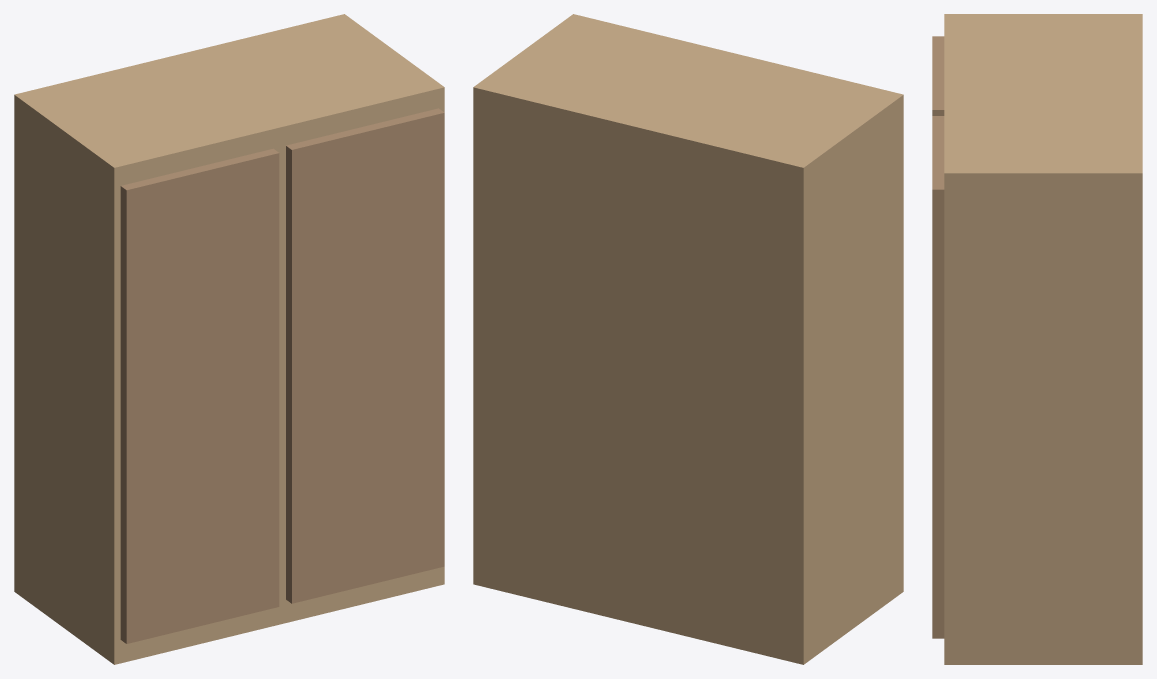
The model's file is cabinet_04.glb.
3 renders of one model, left to right at view 1: azimuth 30°, elevation 25°; view 2: azimuth 150°, elevation 25°; view 3: azimuth 270°, elevation 25°, orthographic.
Parts seen in each view (by area): view 1: body, doorL, doorR; view 2: body; view 3: body, doorR, doorL.
Part boxes in pixels (x1=…): body: x1=14, y1=14, x2=444, y2=664; doorL: x1=120, y1=148, x2=279, y2=643; doorR: x1=286, y1=108, x2=444, y2=603; body: x1=473, y1=14, x2=903, y2=664; body: x1=944, y1=14, x2=1142, y2=664; doorR: x1=932, y1=116, x2=944, y2=638; doorL: x1=932, y1=36, x2=944, y2=115.
Bounding box in the file's own units: 0.8 × 1.15 × 0.4455.
